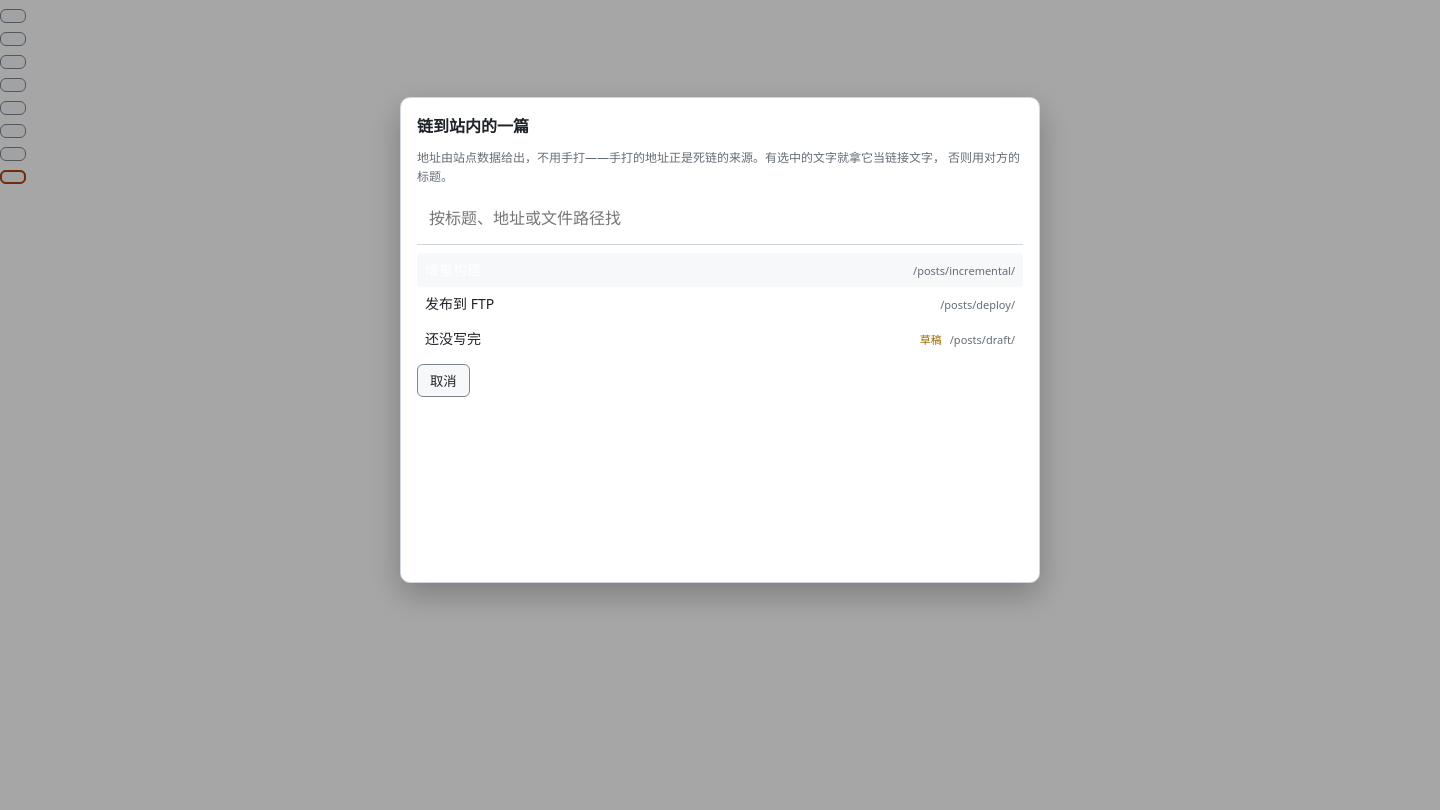
Test: LinkDialog › 没有命中时给空态而不是空列表框
This screenshot has width=1440, height=810.
In the dropdown with placeholder "按标题、地址或文件路径找": (720, 220) [417,194,1023,245], type "没有这样的文章"
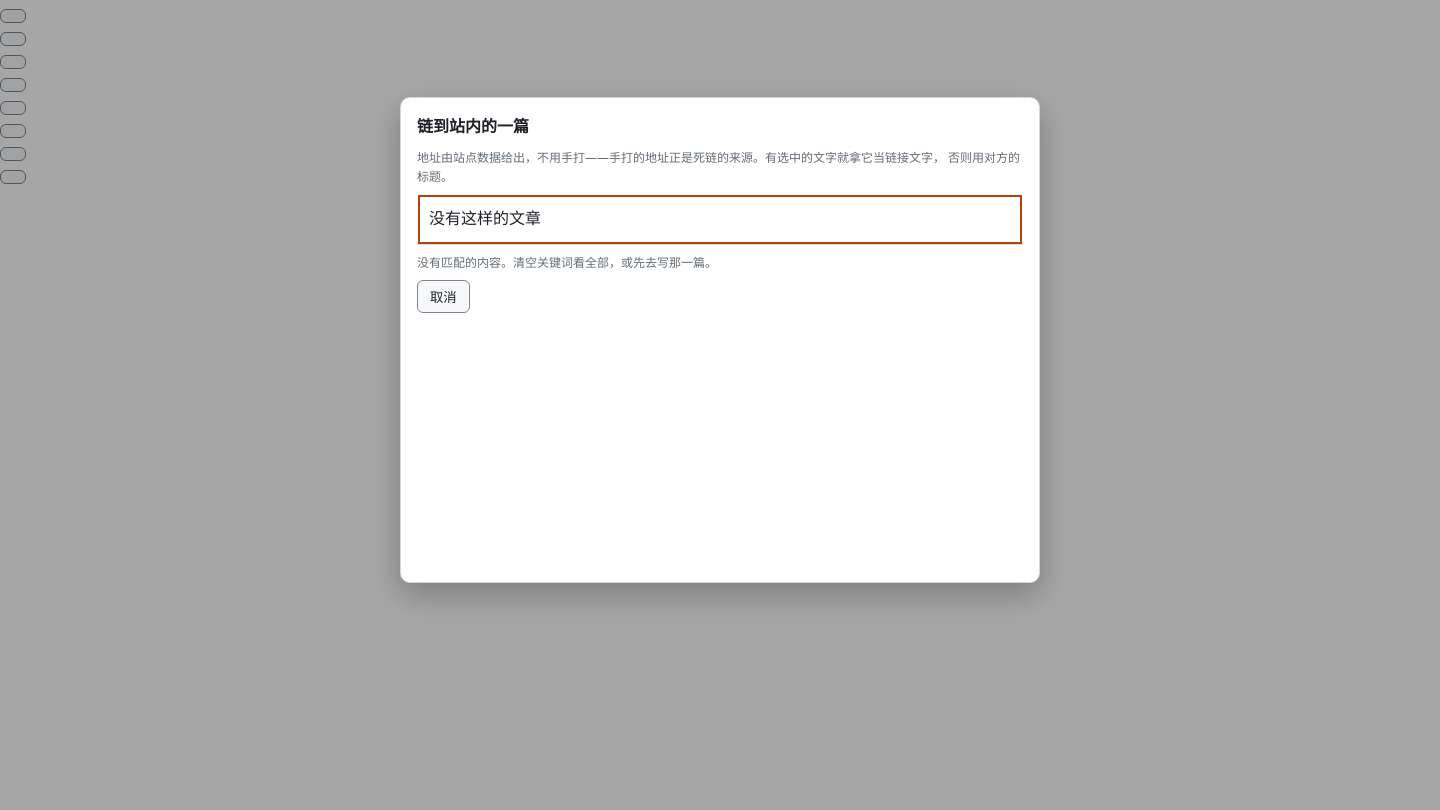
expect the text "没有匹配的内容" is shown: met, box [417,254,717,271]
